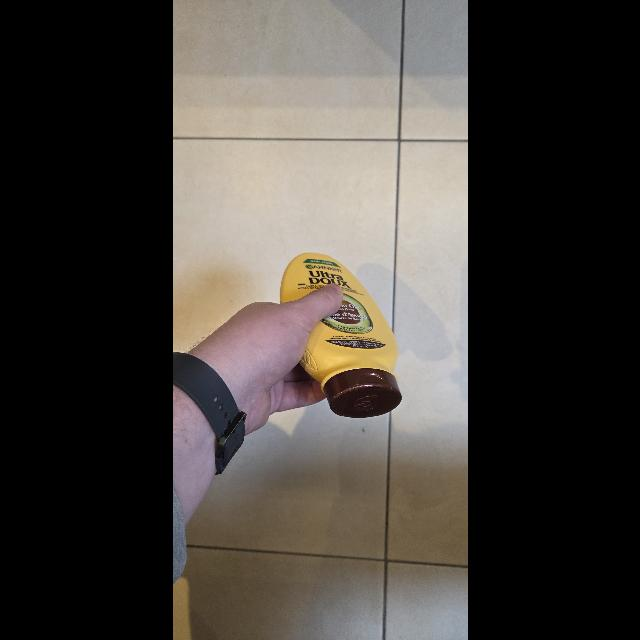Plastic: (277, 253, 419, 421)
